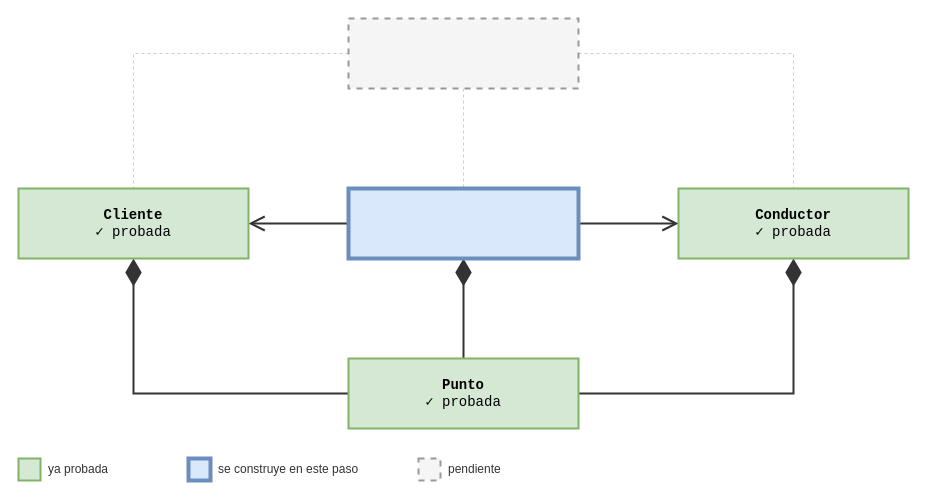
The diagram is 926 pixels wide and 499 high, and some of its shapes have lost their labels. Each missing label, with the centre of its shape:
Plataforma pendiente: point (463, 53)
Viaje une cliente y conductor: point (463, 223)
